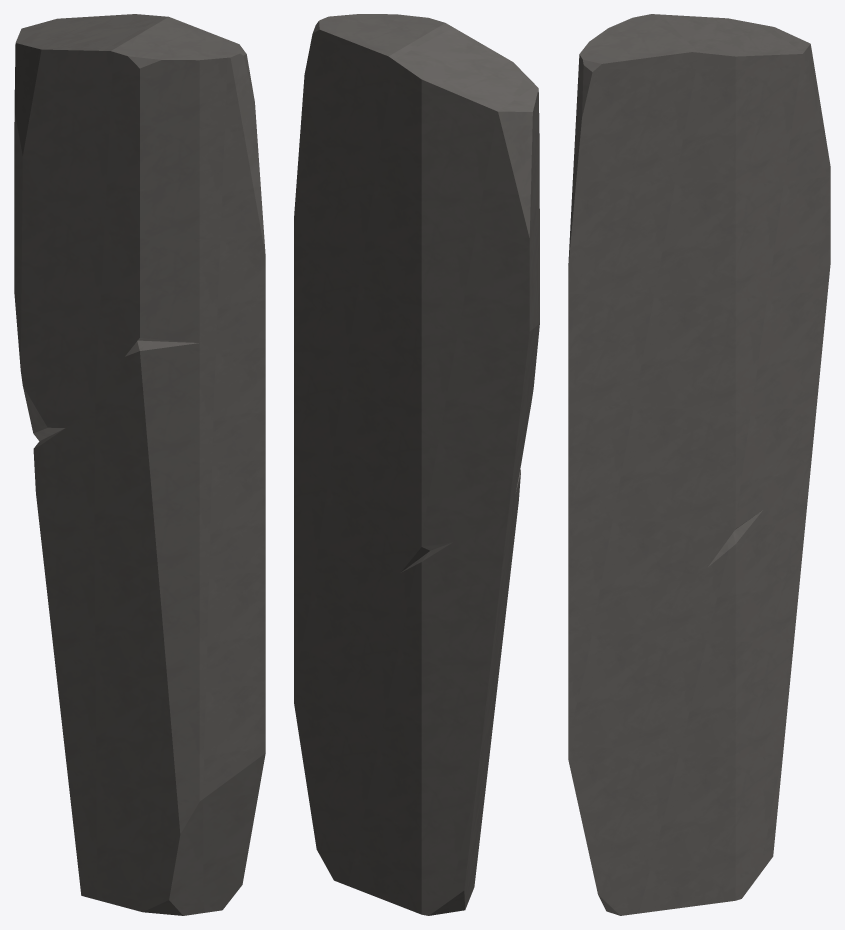
File: Boulder_36.fbx
3 renders of one model, left to right at view 1: azimuth 30°, elevation 25°; view 2: azimuth 210°, elevation 25°; view 3: azimuth 270°, elevation 25°, orthographic. The views are drawn at different scales.
Visible parts, largest first — view 1: Boulder_36; view 2: Boulder_36; view 3: Boulder_36.
Part boxes in pixels (x1,y1,x2,y2): Boulder_36: (14,14,265,915); Boulder_36: (294,14,539,915); Boulder_36: (568,14,830,915).
Bounding box in the file's own units: 842 × 4557 × 1269.
